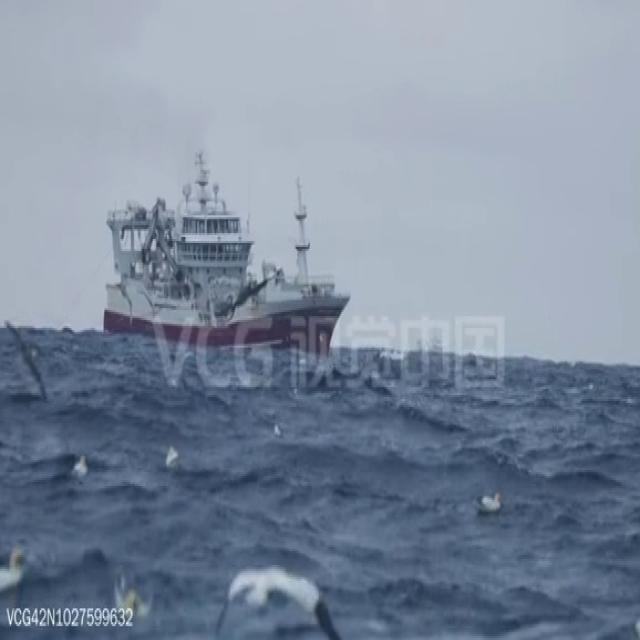passenger ship: (97, 146, 348, 354)
